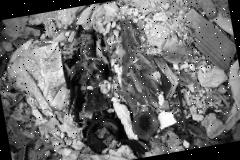glass: (52, 15, 172, 160)
